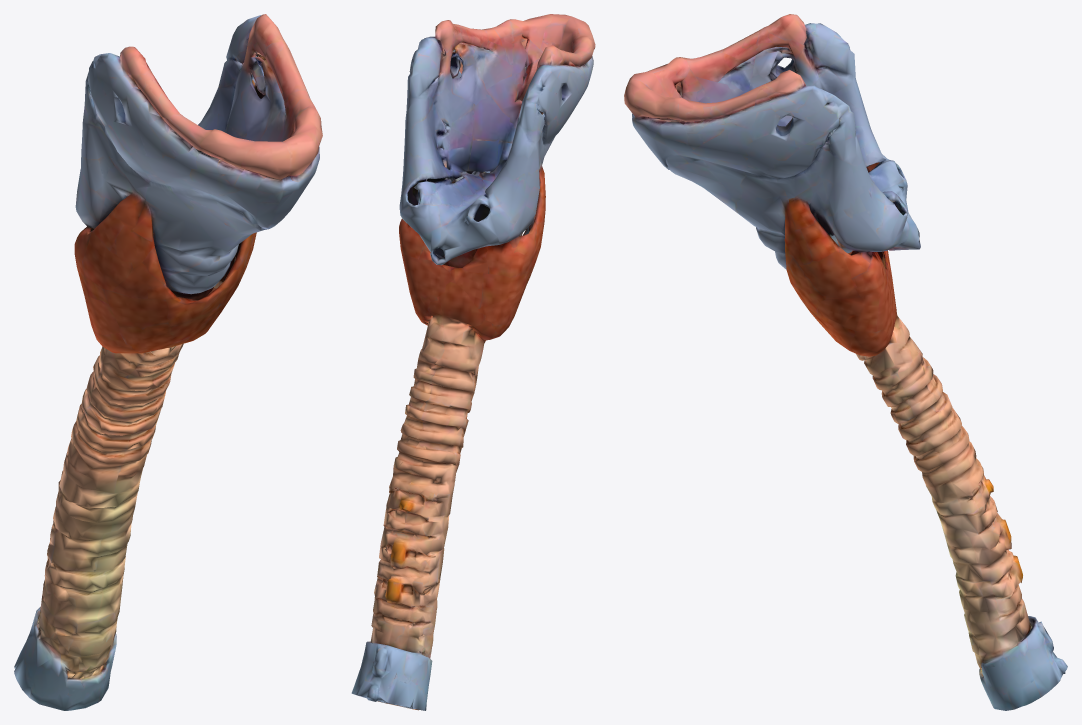
File: phar.glb
The picture shows the model from 3 angles, left to right: view 1: azimuth 30°, elevation 25°; view 2: azimuth 150°, elevation 25°; view 3: azimuth 270°, elevation 25°; orthographic projection. The views are drawn at different scales.
Size of the model in its own units: 0.4421 by 1.9 by 1.16.
1 material, 1 textured.
